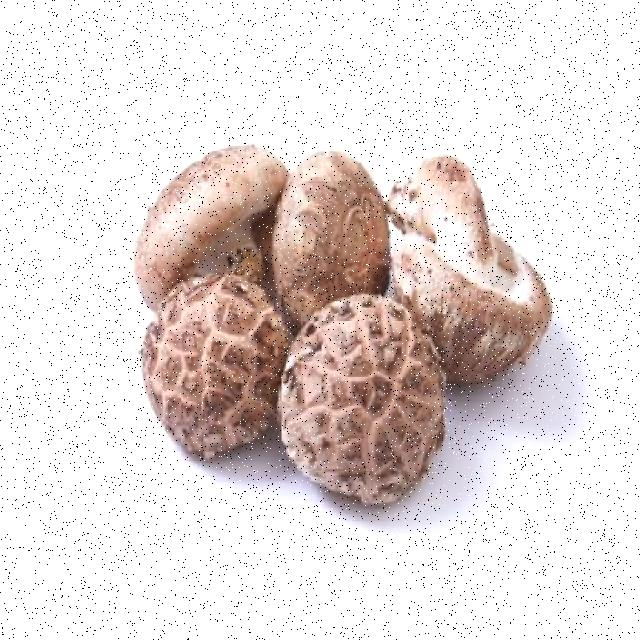Mushroom: (368, 144, 577, 407), (100, 118, 288, 314)
